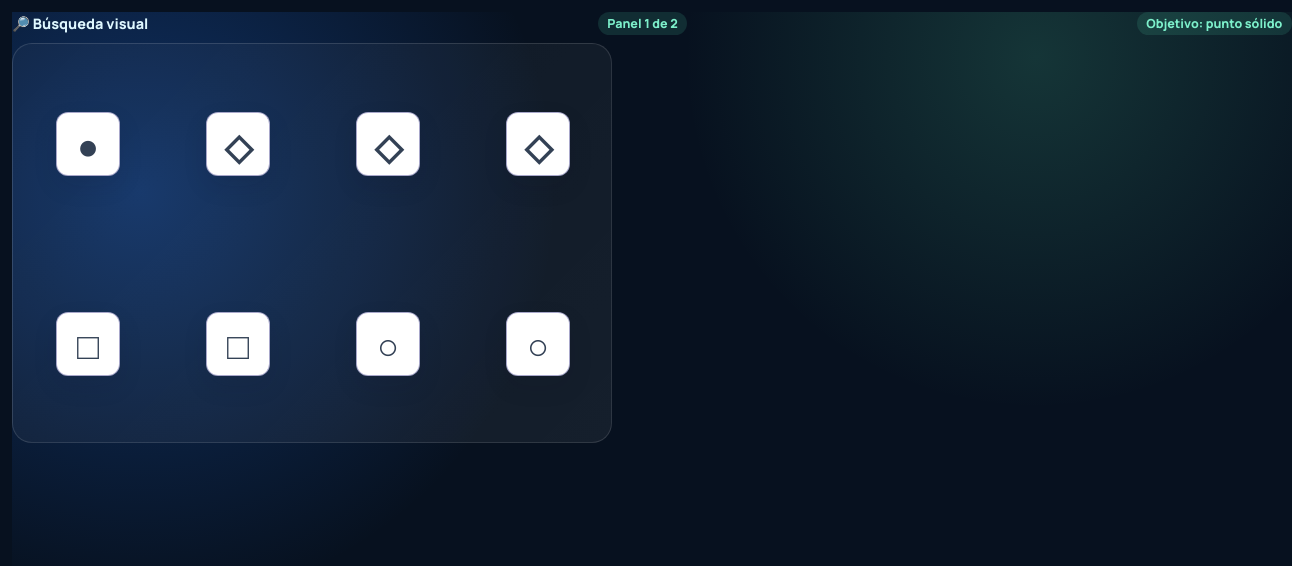
Test: VisualSearchTask › shows a styled feedback overlay between trials
Click the button with test id "visual-search-target" at (88, 144), box [56,112,120,176]
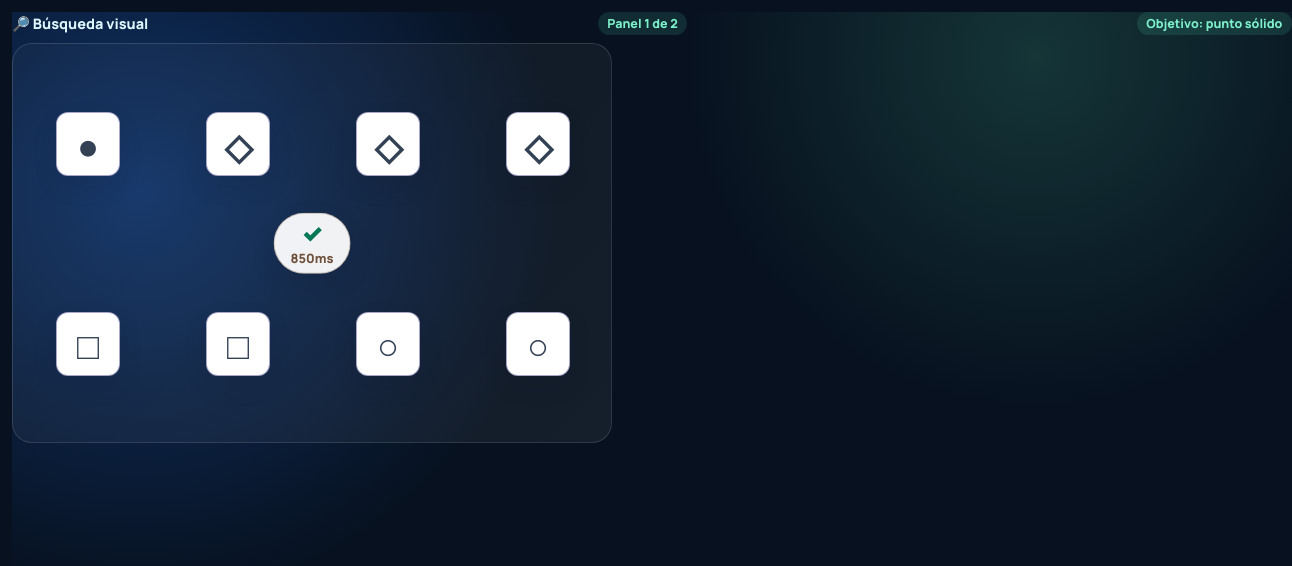
Result: the message with test id "visual-search-feedback" shows "850ms" at [291,249,334,267]
